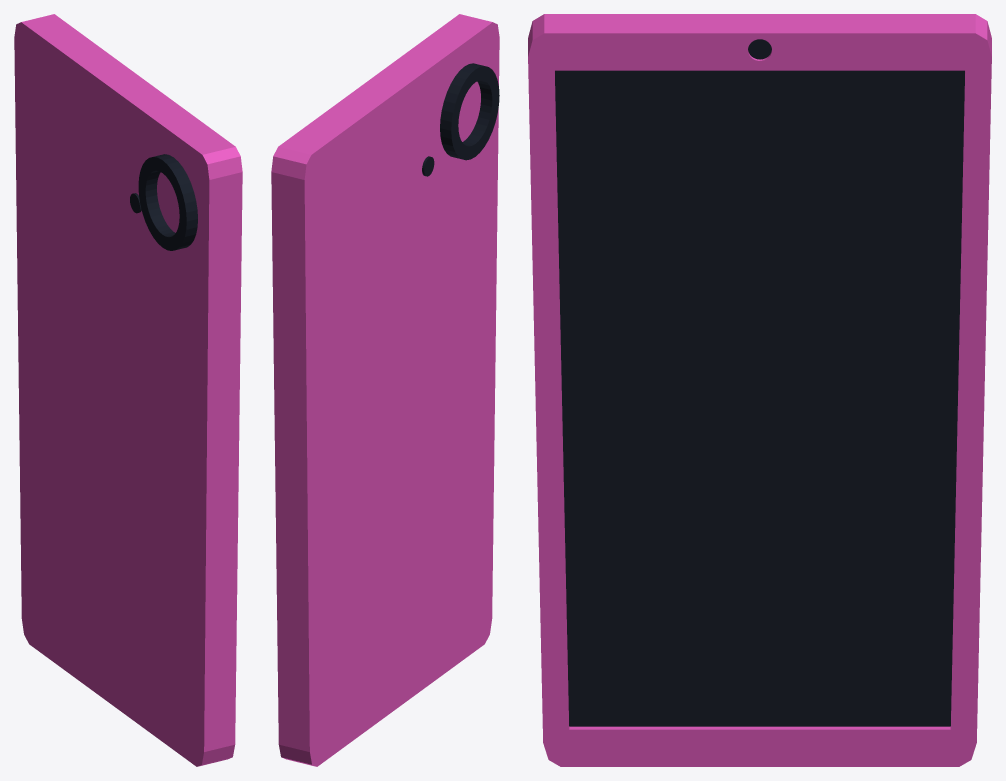
Rendered from smartphone.fbx.
3 views of the same model, side by side, from view 1: azimuth 30°, elevation 25°; view 2: azimuth 150°, elevation 25°; view 3: azimuth 270°, elevation 25° (orthographic). The views are drawn at different scales.
Visible parts, largest first — view 1: Cylinder.002; view 2: Cylinder.002; view 3: Cylinder.002.
Boxes of the visible parts, x1,y1,x2,y2 form: Cylinder.002: [14, 14, 242, 766]; Cylinder.002: [271, 14, 499, 766]; Cylinder.002: [528, 14, 991, 766].
Bounding box in the file's own units: 28.31 × 375 × 215.
